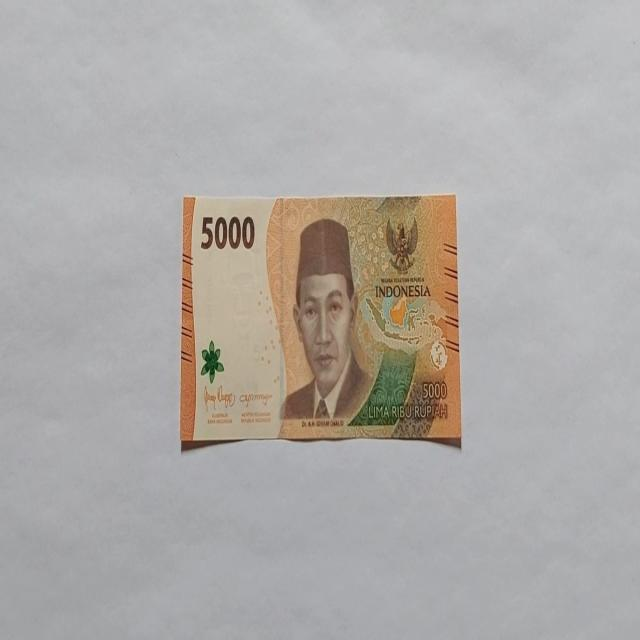lima ribu rupiah: (180, 192, 461, 449), (280, 217, 374, 424)
